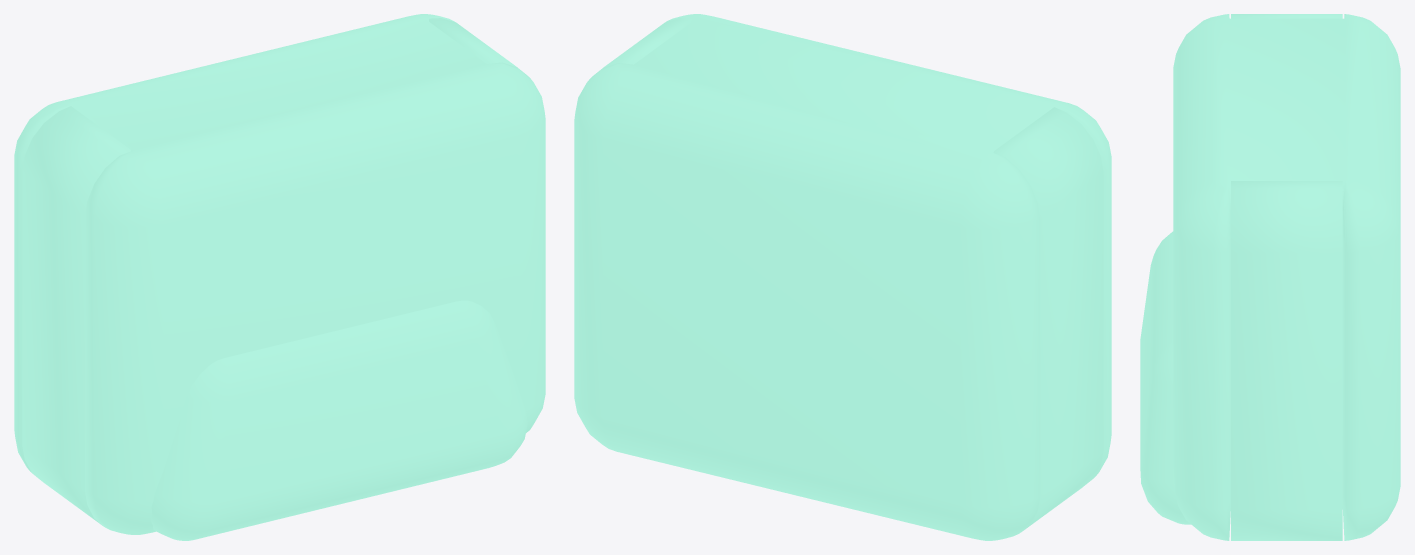
Rendered from outline_aqua2.glb.
3 renders of one model, left to right at view 1: azimuth 30°, elevation 25°; view 2: azimuth 150°, elevation 25°; view 3: azimuth 270°, elevation 25°, orthographic. The views are drawn at different scales.
Parts seen in each view (by area): view 1: head.002; view 2: head.002; view 3: head.002, head.001.
Part boxes in pixels (box(x1,y1,x2,y2)): head.002: box(14, 14, 545, 540); head.002: box(574, 14, 1111, 540); head.002: box(1140, 14, 1400, 540); head.001: box(1227, 188, 1345, 529).
Bounding box in the file's own units: 2.3 × 1.84 × 1.21.
